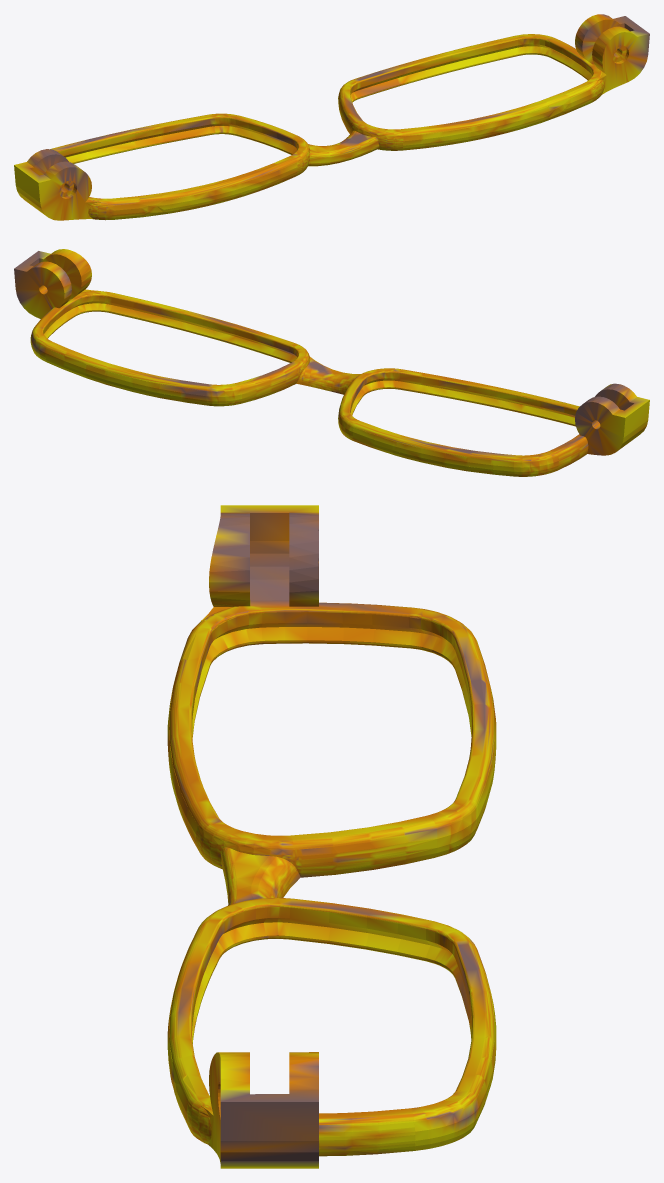
Rendered from eyeglass1_final200.obj.
3 views of the same model, one above another, from view 1: azimuth 30°, elevation 25°; view 2: azimuth 150°, elevation 25°; view 3: azimuth 270°, elevation 25° (orthographic). The views are drawn at different scales.
Size of the model in its own units: 1.97 by 0.2013 by 0.4583.
